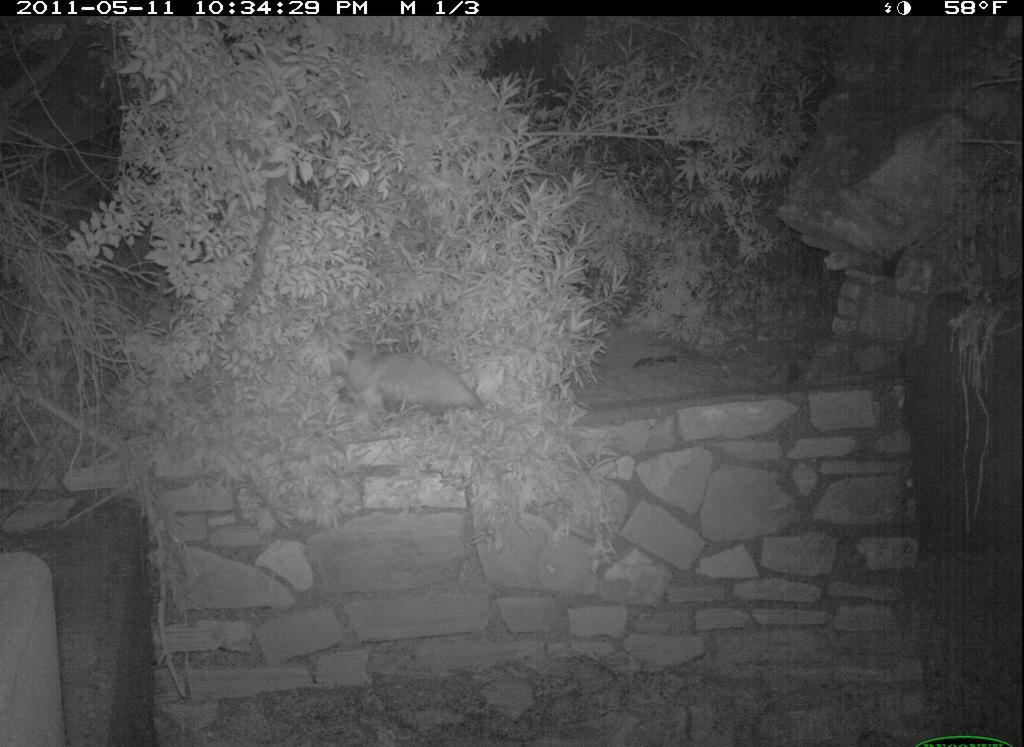opossum: (295, 322, 492, 436)
